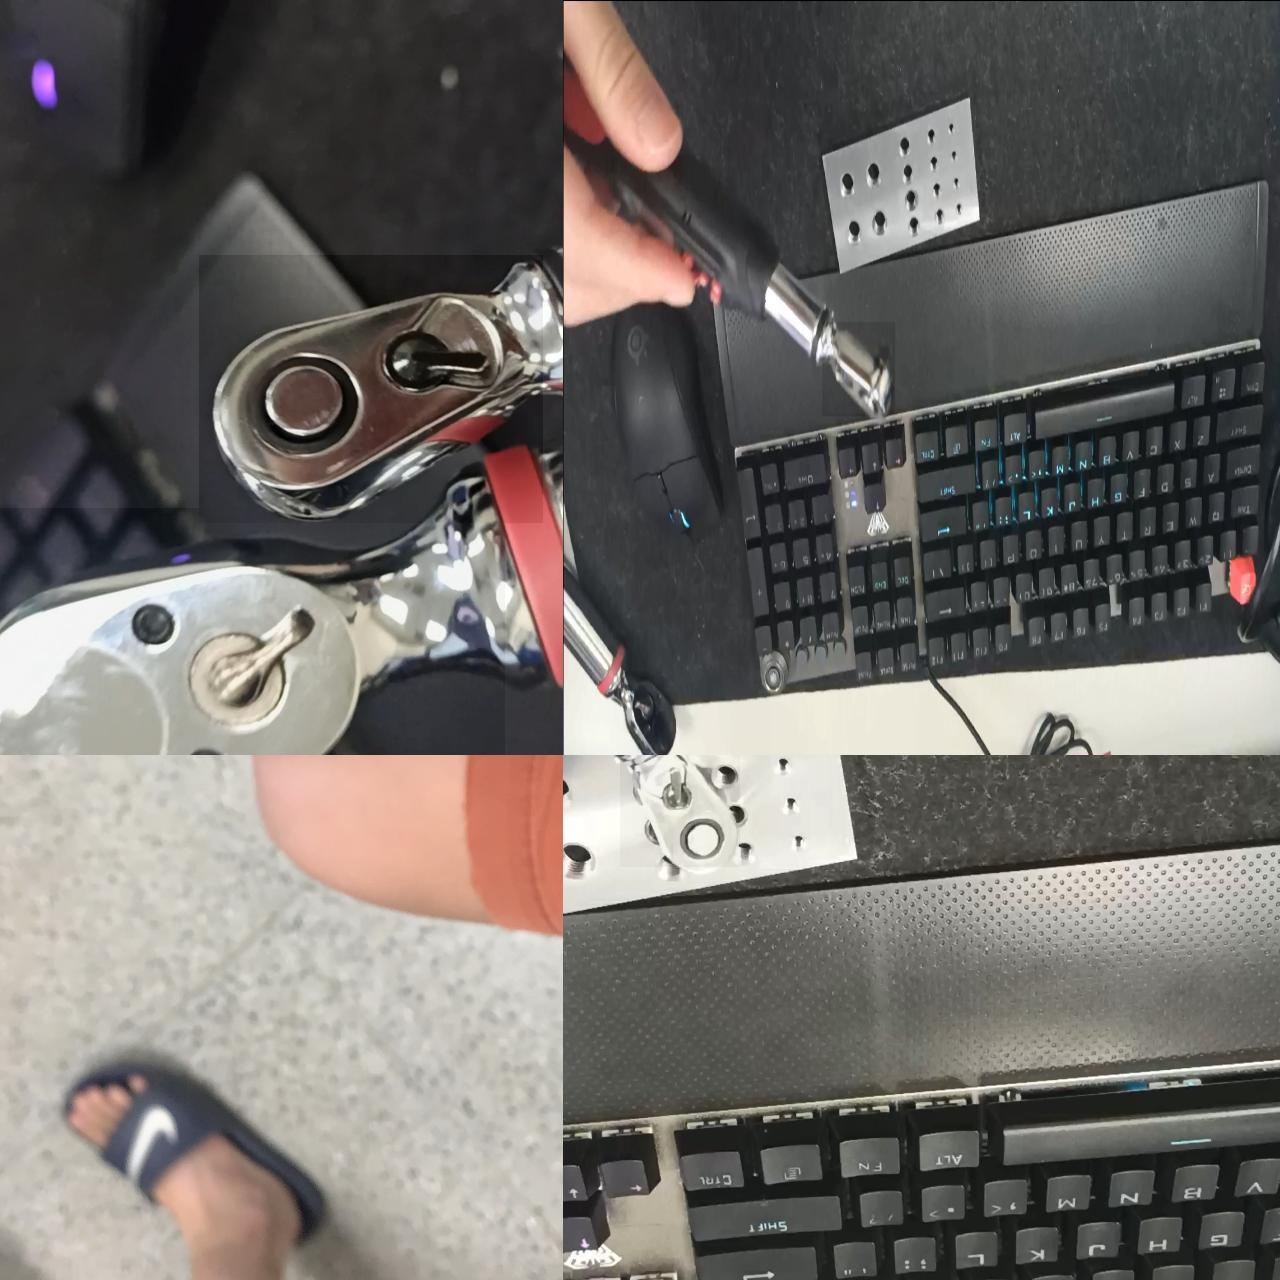Tool: (0, 507, 504, 755), (198, 254, 542, 522), (619, 755, 739, 866), (821, 320, 894, 416)
